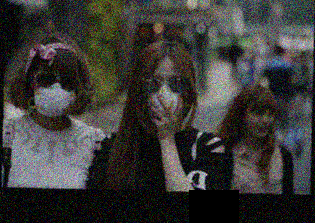with_mask: (32, 67, 77, 118), (145, 71, 186, 119)
without_mask: (244, 107, 273, 139)
